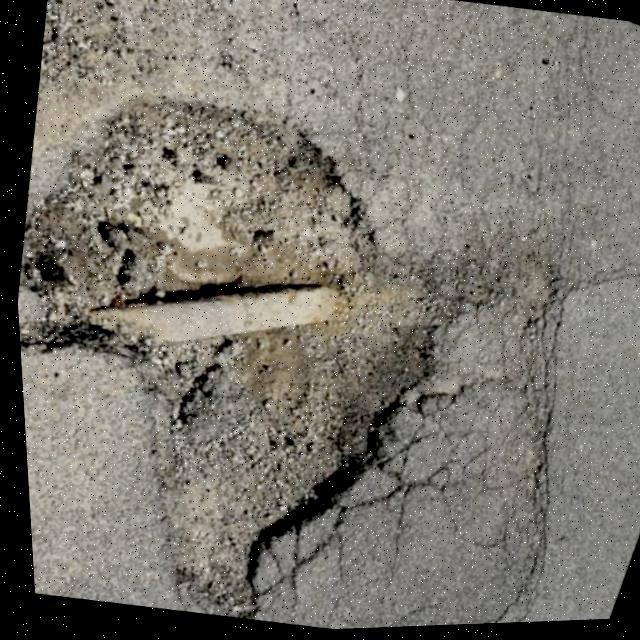Pothole: (3, 53, 538, 611)
